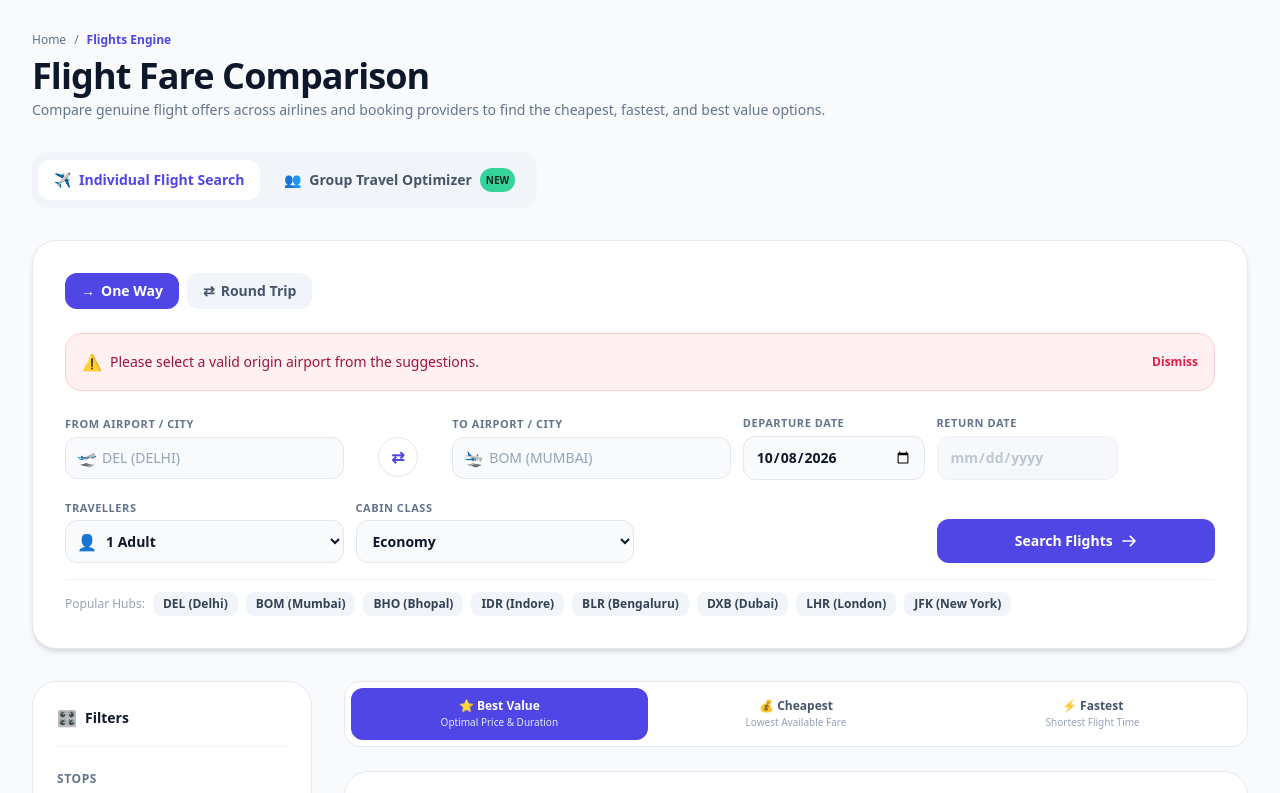
Test: Dynamic Flight Airport/City Search & Integration › Dynamic Route Pairs & Validation › requires valid selected airport and rejects arbitrary unselected text like ABC
The image size is (1280, 793).
Type "ABC" into the dropdown with placeholder "DEL (Delhi)" at {"x": 204, "y": 458}, box [65, 436, 344, 478]
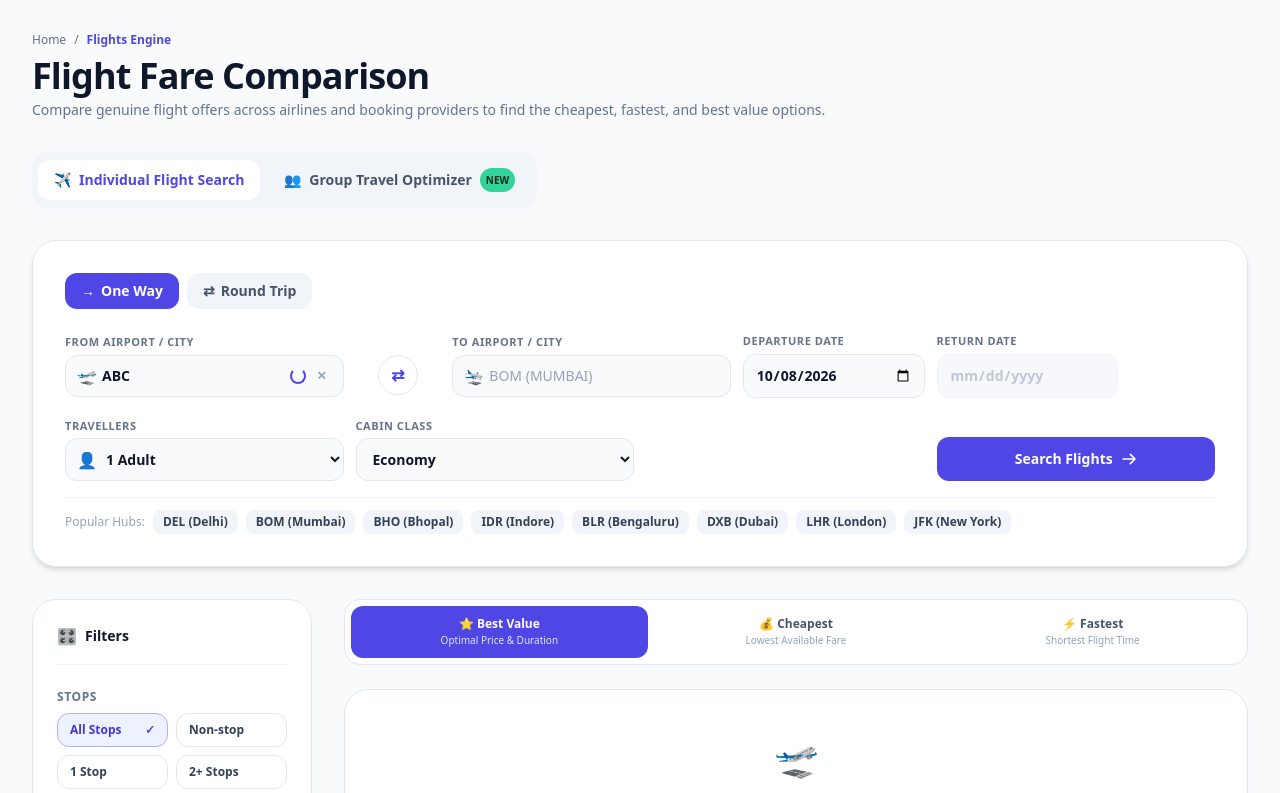
Click the button "Search Flights" at {"x": 1076, "y": 459}, box [936, 437, 1215, 481]
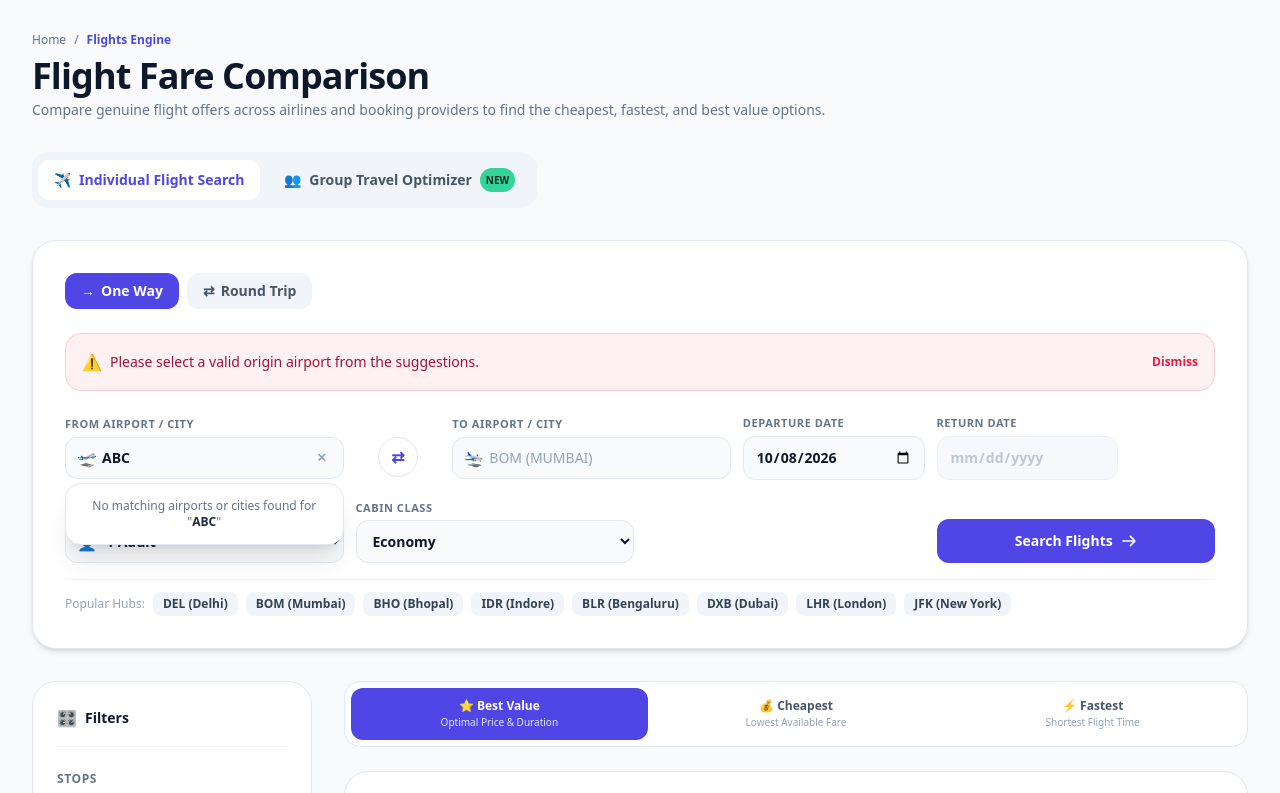
Now the message shows "Please select a valid origin airport from the suggestions", box [110, 352, 479, 371]
